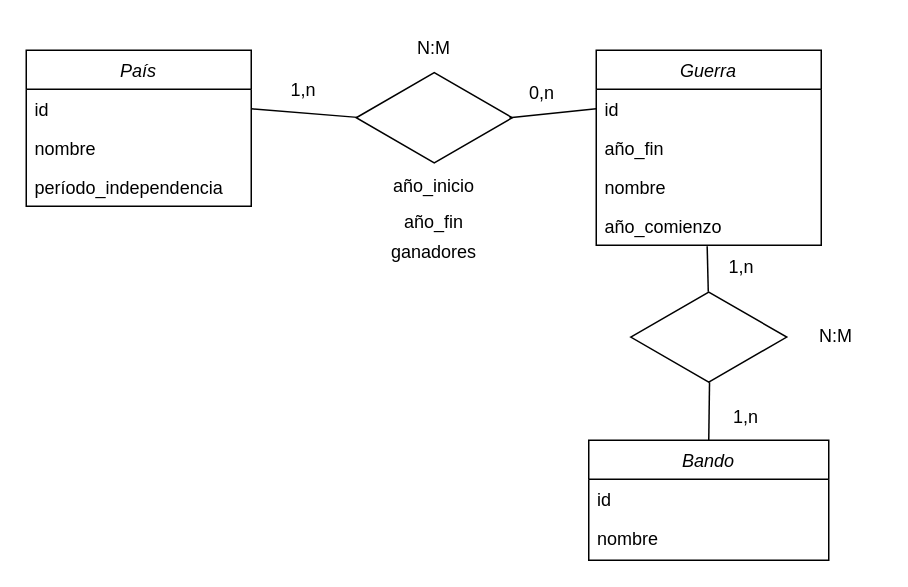
The diagram is 908 pixels wide and 587 high, and some of its shapes have lost their labels. Here are the shapes that lost their labels. From the top down, the centre of each, then its label:
(x=433, y=117): Provoca
(x=708, y=336): Genera
